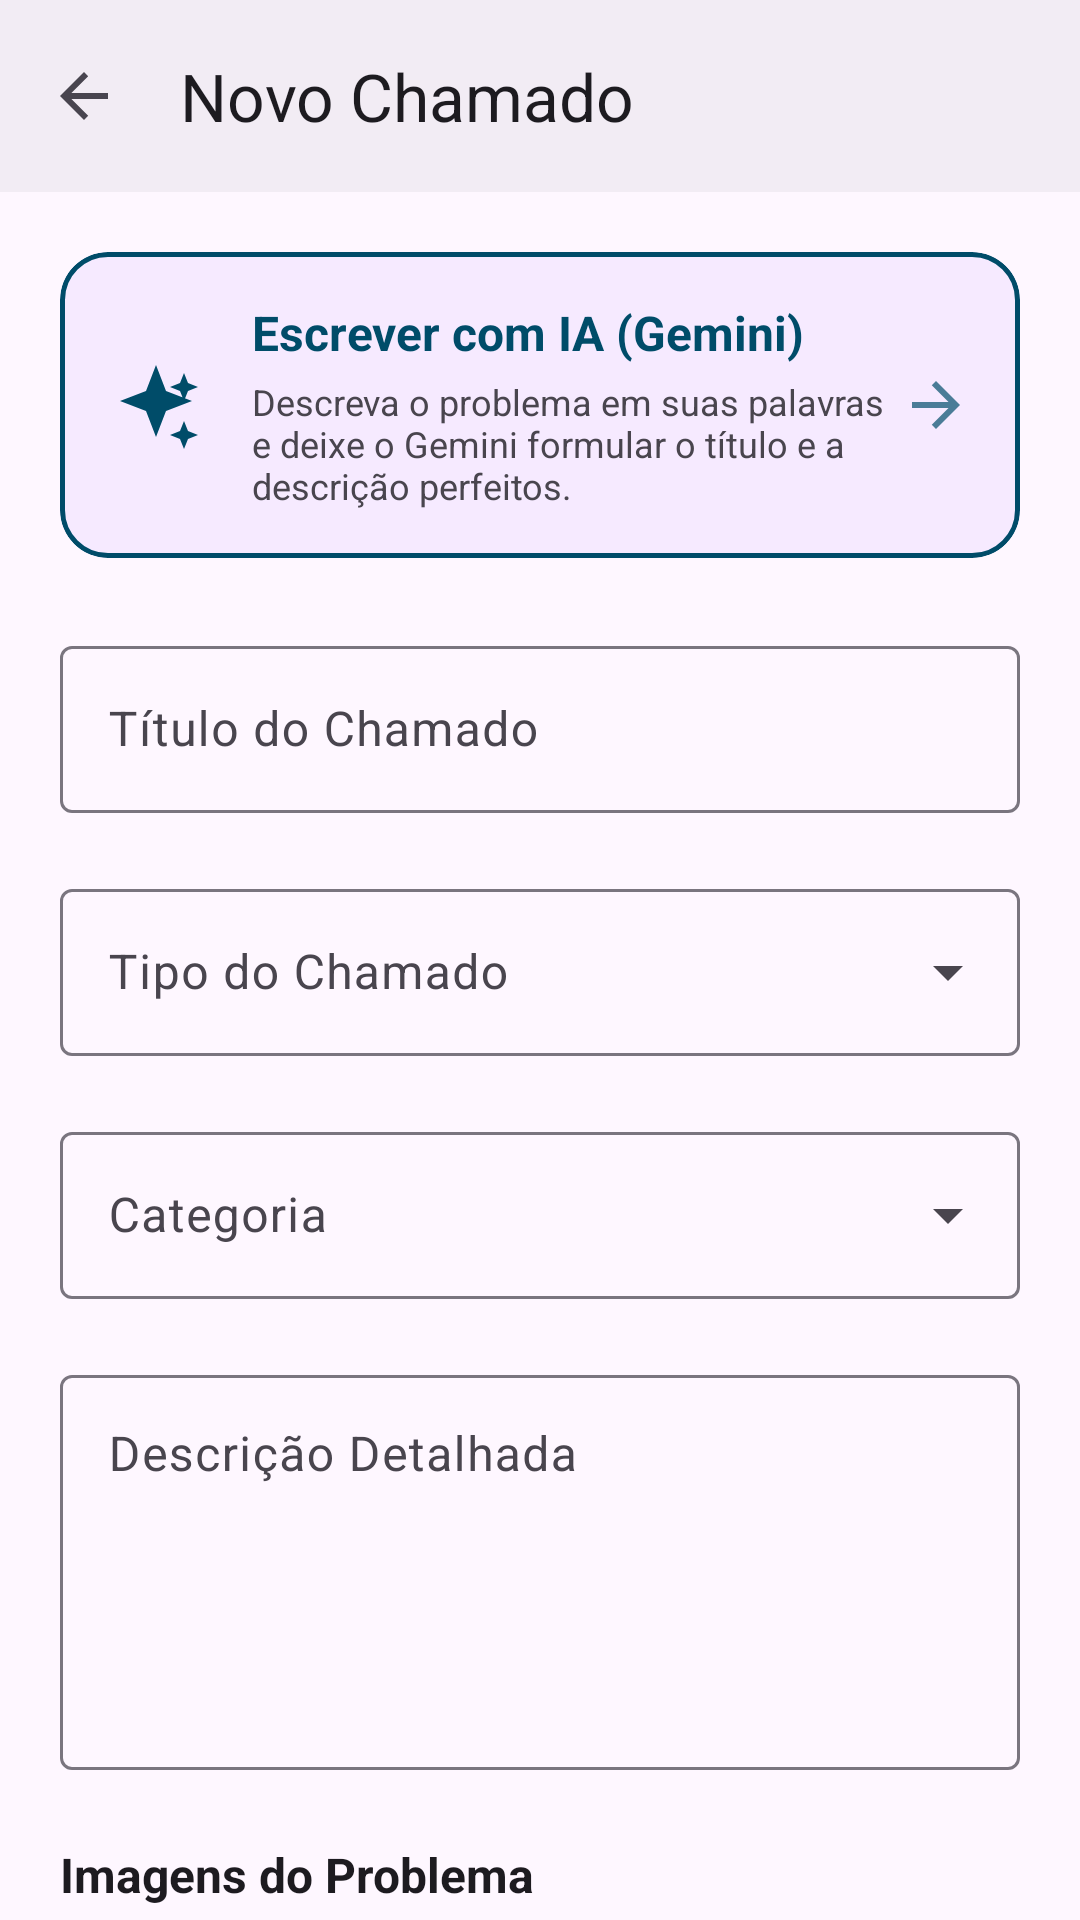

Where icons sit on this 1080*1920 app screen, as (x1, y1, x2, y2):
ai spark: (120, 365, 198, 449)
arrow forward: (912, 381, 960, 429)
